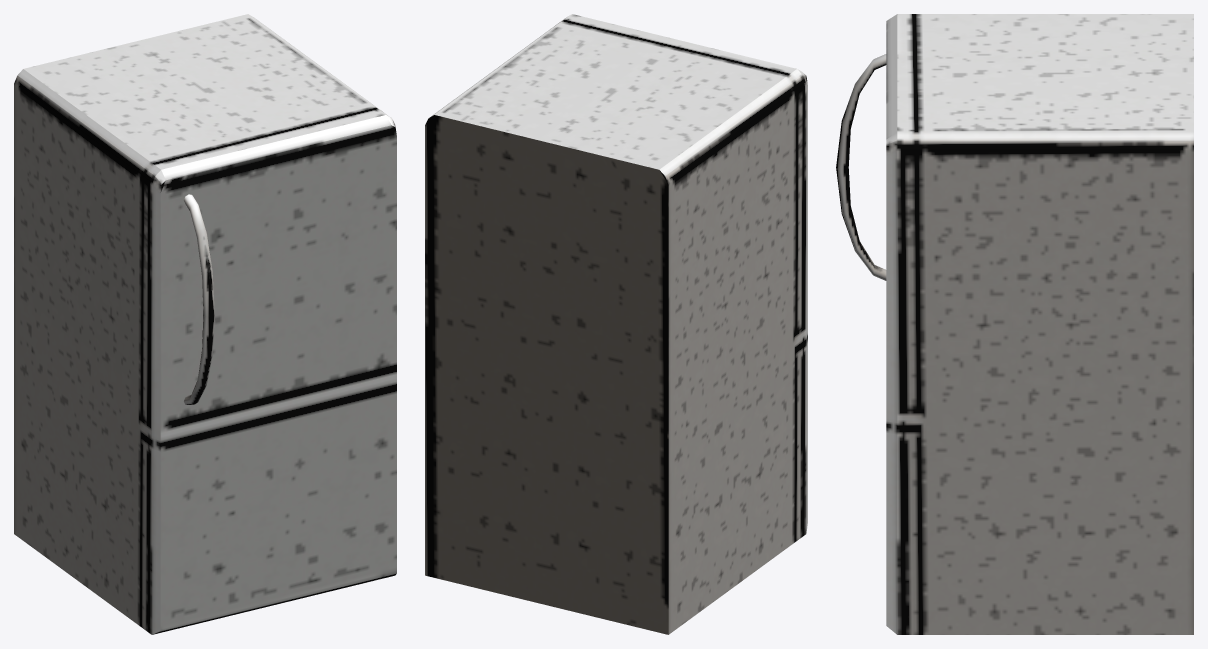
The model's file is Fridge.fbx.
The picture shows the model from 3 angles, left to right: view 1: azimuth 30°, elevation 25°; view 2: azimuth 150°, elevation 25°; view 3: azimuth 270°, elevation 25°; orthographic projection. The views are drawn at different scales.
Parts seen in each view (by area): view 1: polySurface11; view 2: polySurface11; view 3: polySurface11.
Part boxes in pixels (x1,y1,x2,y2): polySurface11: (14,14,396,634); polySurface11: (425,14,807,634); polySurface11: (836,14,1193,634).
Bounding box in the file's own units: 126 × 228 × 149.
